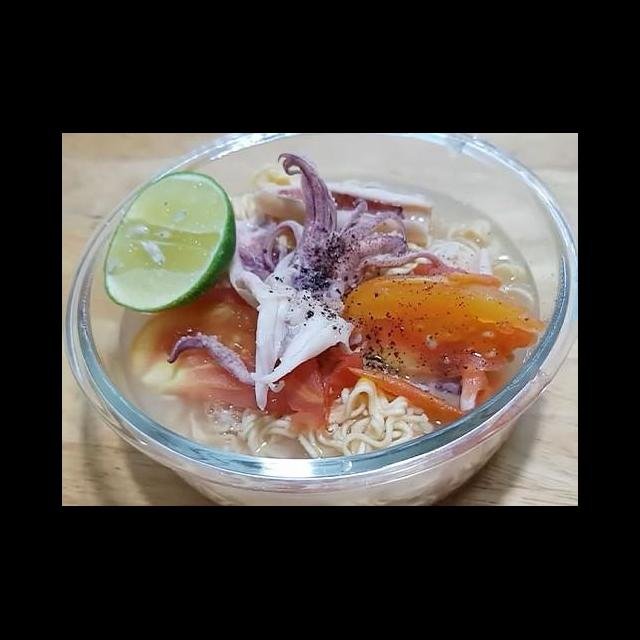muc: (163, 148, 473, 414)
